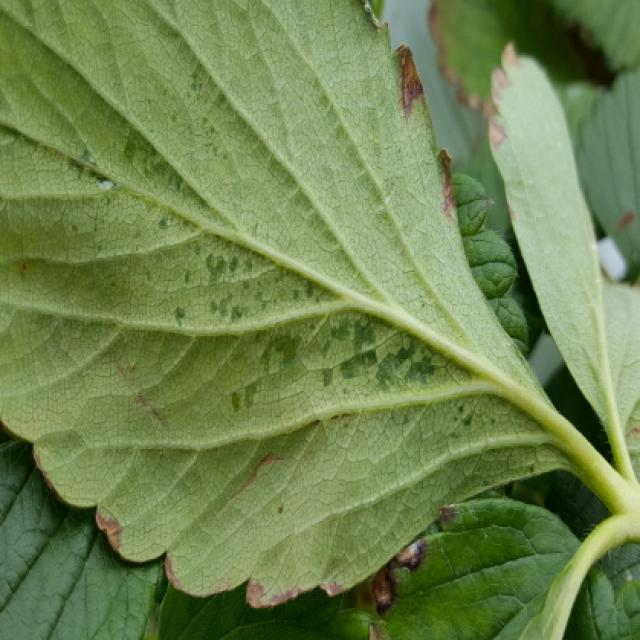Angular Leafspot: (43, 61, 498, 438), (91, 509, 344, 608)
